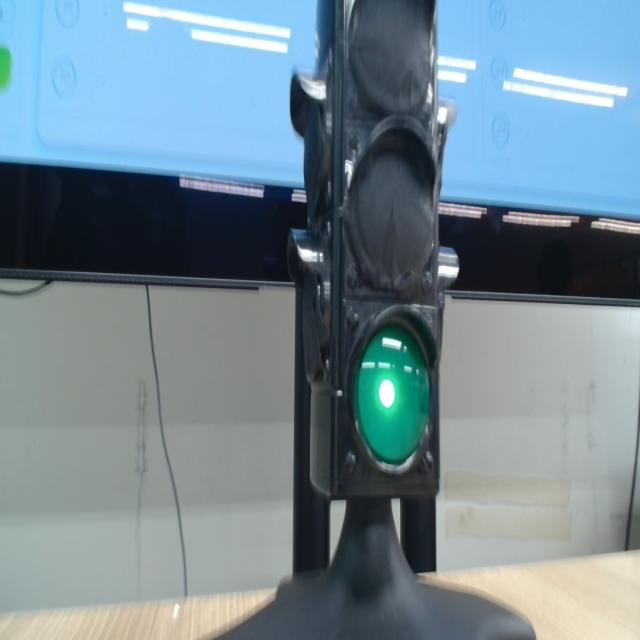green_light: (354, 325, 430, 464)
